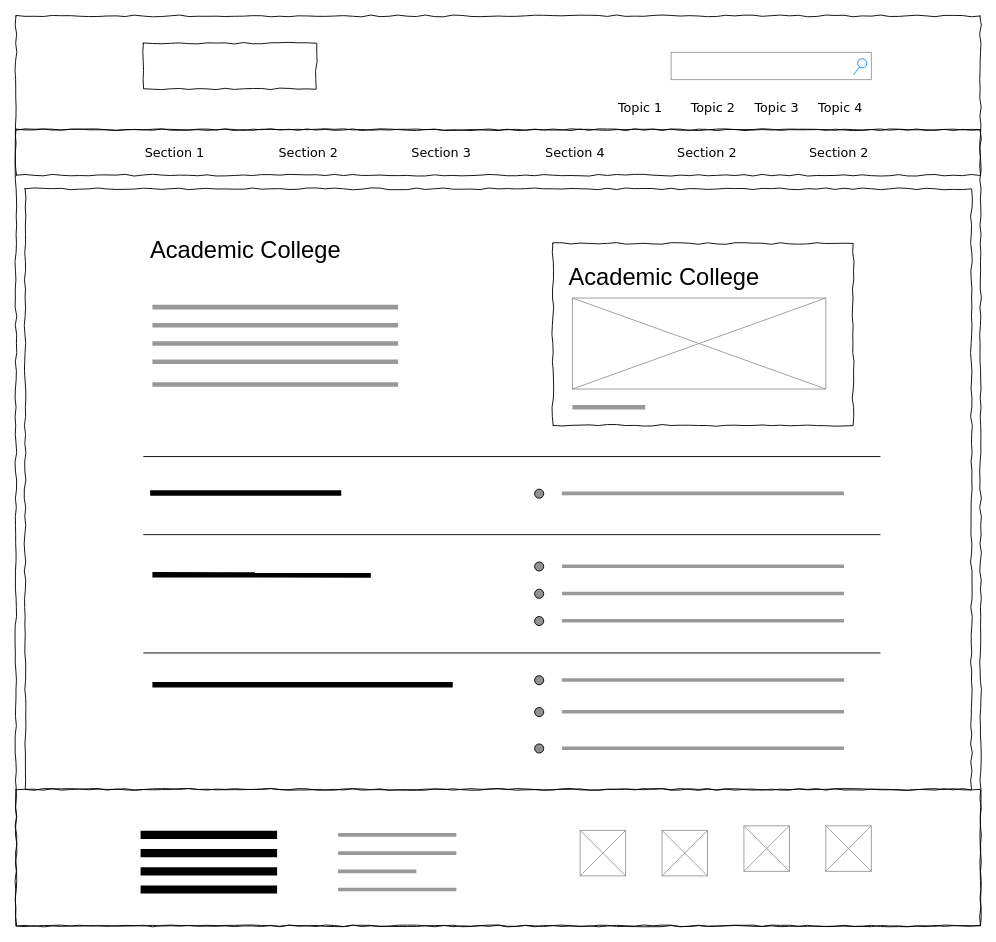
Image size: 996x942. Some labels were removed from this diagram. Each missing label, with the box of its shape:
LOGO: (142, 42, 316, 89)
Search: (670, 51, 871, 80)
